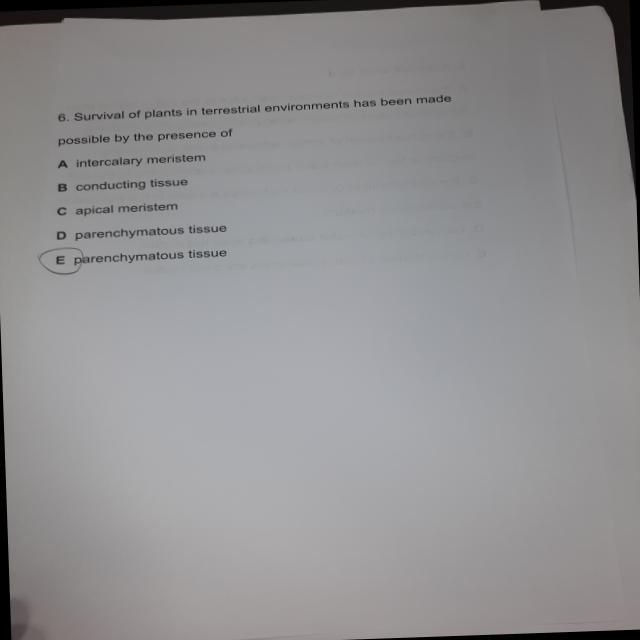E: (35, 245, 89, 278)
